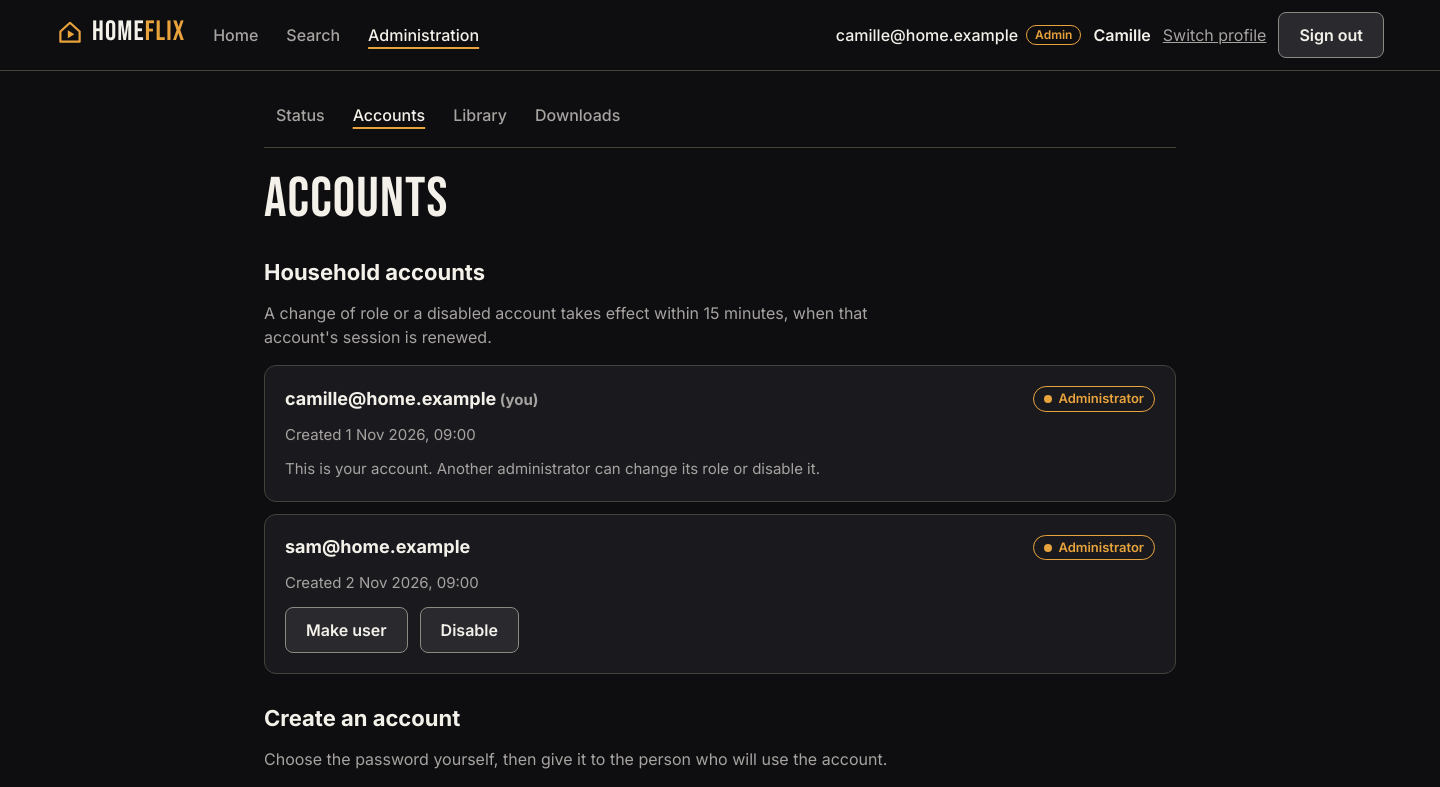
Scenario: AccountsPage › shows the server message when the change would leave no administrator
What coordinates should you click on to do the following:
click the button with aria-label "Make sam@home.example a user"
I would click on:
 (346, 630)
Its box is [285,607,408,653].
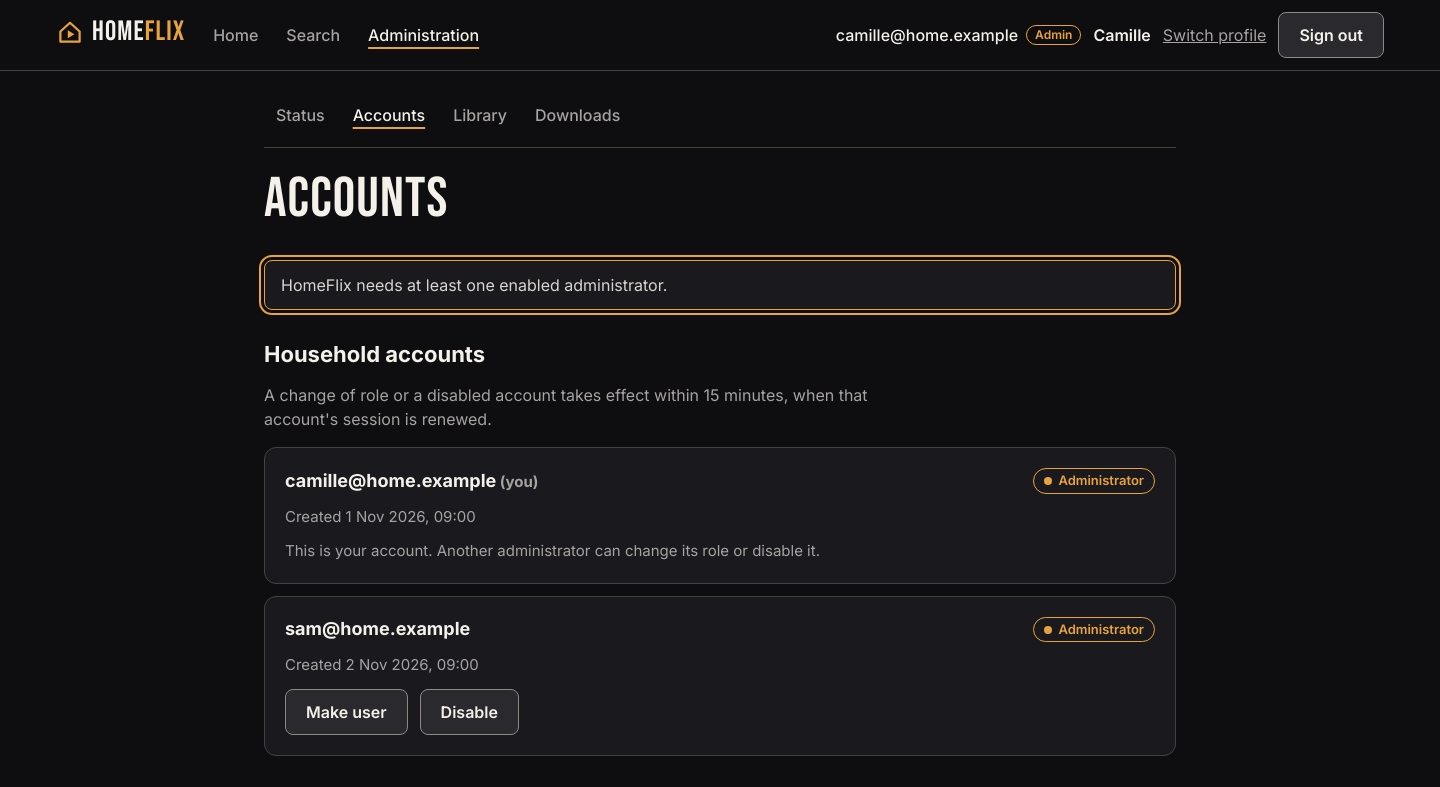
expect the message reads "HomeFlix needs at least one enabled administrator.": met, box [281,275,667,295]
